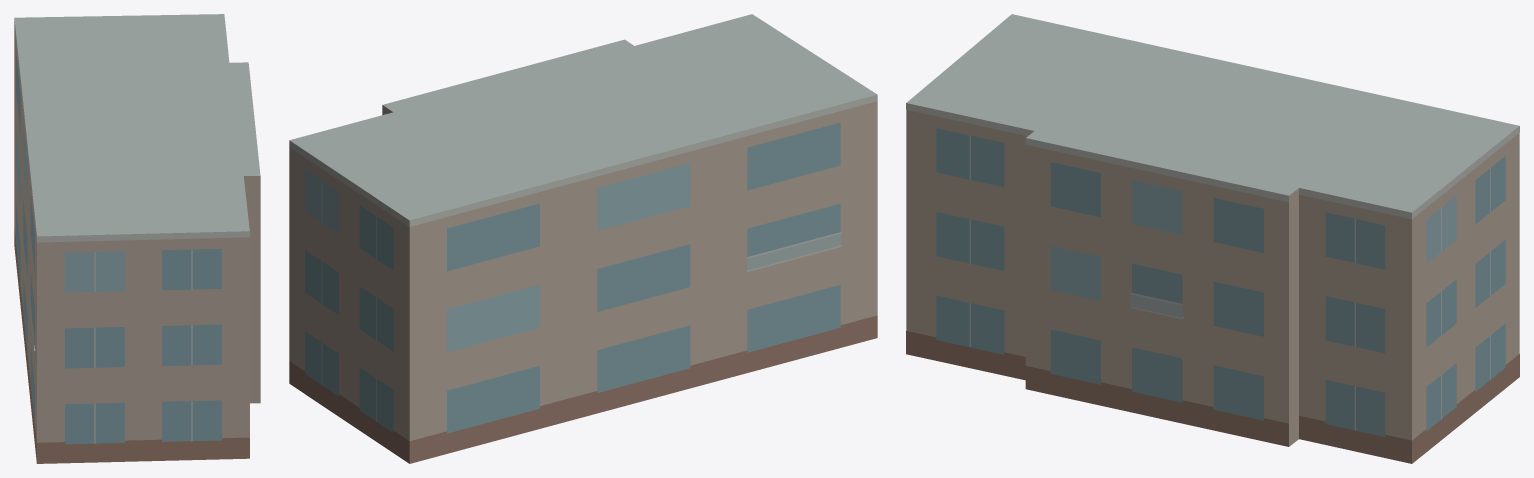
Rendered from survey-upis-32705011.glb.
The picture shows the model from 3 angles, left to right: view 1: azimuth 30°, elevation 25°; view 2: azimuth 150°, elevation 25°; view 3: azimuth 270°, elevation 25°; orthographic projection. The views are drawn at different scales.
Visible parts, largest first — view 1: survey-upis-32705011.tmp; view 2: survey-upis-32705011.tmp; view 3: survey-upis-32705011.tmp.
Boxes of the visible parts, x1=… form: survey-upis-32705011.tmp: x1=14, y1=14, x2=260, y2=463; survey-upis-32705011.tmp: x1=289, y1=14, x2=877, y2=463; survey-upis-32705011.tmp: x1=906, y1=14, x2=1519, y2=463.
Size of the model in its own units: 15.53 by 9.15 by 20.26.
